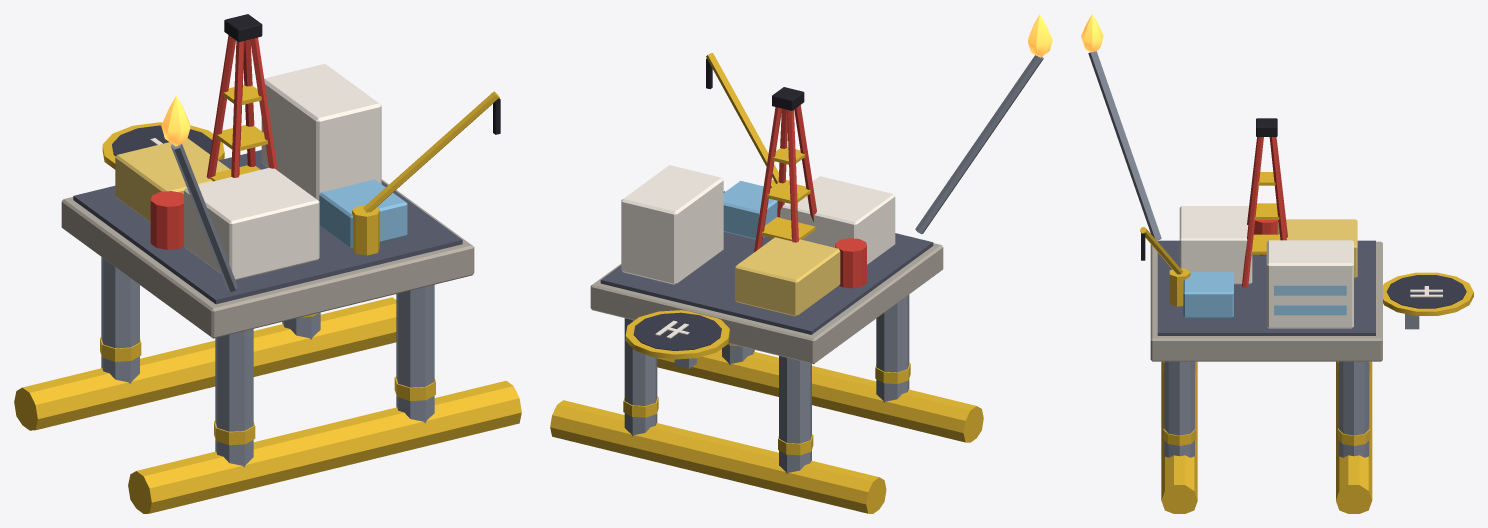
Rendered from oil_rig.glb.
The picture shows the model from 3 angles, left to right: view 1: azimuth 30°, elevation 25°; view 2: azimuth 150°, elevation 25°; view 3: azimuth 270°, elevation 25°; orthographic projection. The views are drawn at different scales.
Visible parts, largest first — view 1: oil_rig; view 2: oil_rig; view 3: oil_rig.
Part boxes in pixels (x1,y1,x2,y2): oil_rig: (14,14,521,513); oil_rig: (550,14,1052,513); oil_rig: (1081,14,1473,513).
Size of the model in its own units: 97.88 by 107 by 108.
1 material, 1 textured.
